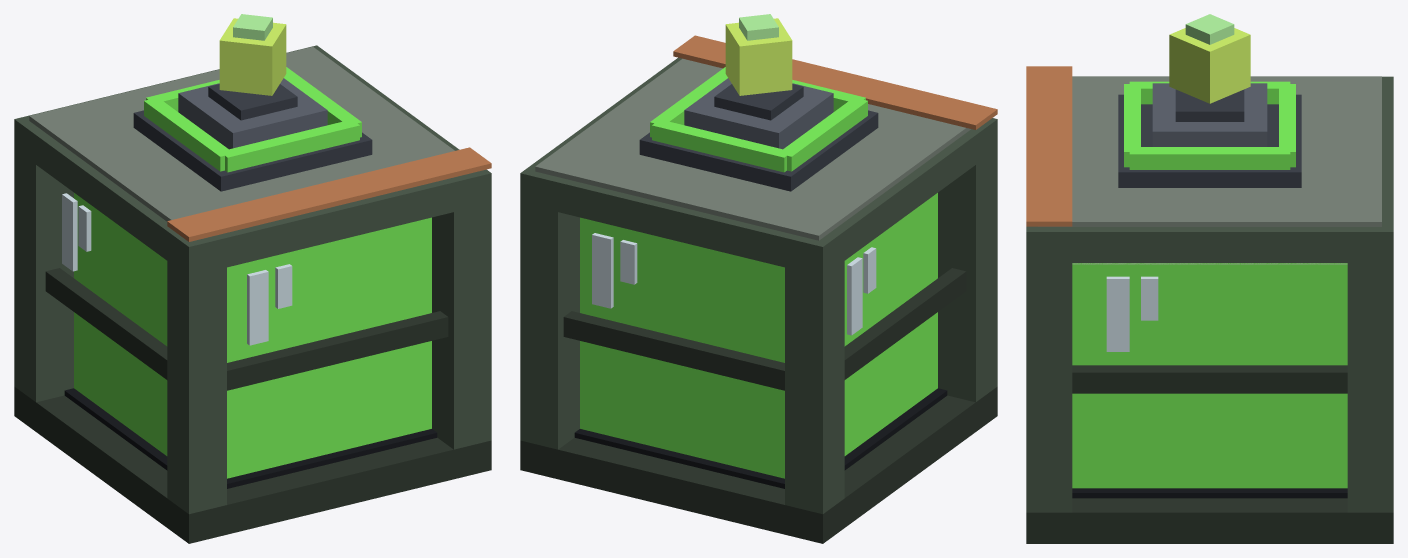
File: xp_tank.glb
3 renders of one model, left to right at view 1: azimuth 30°, elevation 25°; view 2: azimuth 150°, elevation 25°; view 3: azimuth 270°, elevation 25°, orthographic. The views are drawn at different scales.
Visible parts, largest first — view 1: body.052, level_xp, tier.027, orb; view 2: body.052, level_xp, tier.027, orb; view 3: body.052, level_xp, tier.027, orb.
Part boxes in pixels (box(x1,y1,x2,y2)): body.052: box(14, 45, 491, 543); level_xp: box(74, 193, 431, 478); tier.027: box(167, 147, 491, 241); orb: box(219, 14, 286, 95); body.052: box(520, 57, 997, 543); level_xp: box(580, 193, 937, 478); tier.027: box(673, 35, 997, 129); orb: box(725, 14, 792, 95); body.052: box(1026, 76, 1393, 543); level_xp: box(1072, 263, 1347, 488); tier.027: box(1026, 66, 1072, 226); orb: box(1169, 14, 1250, 103).
Bounding box in the file's own units: 1 × 1.33 × 1.
